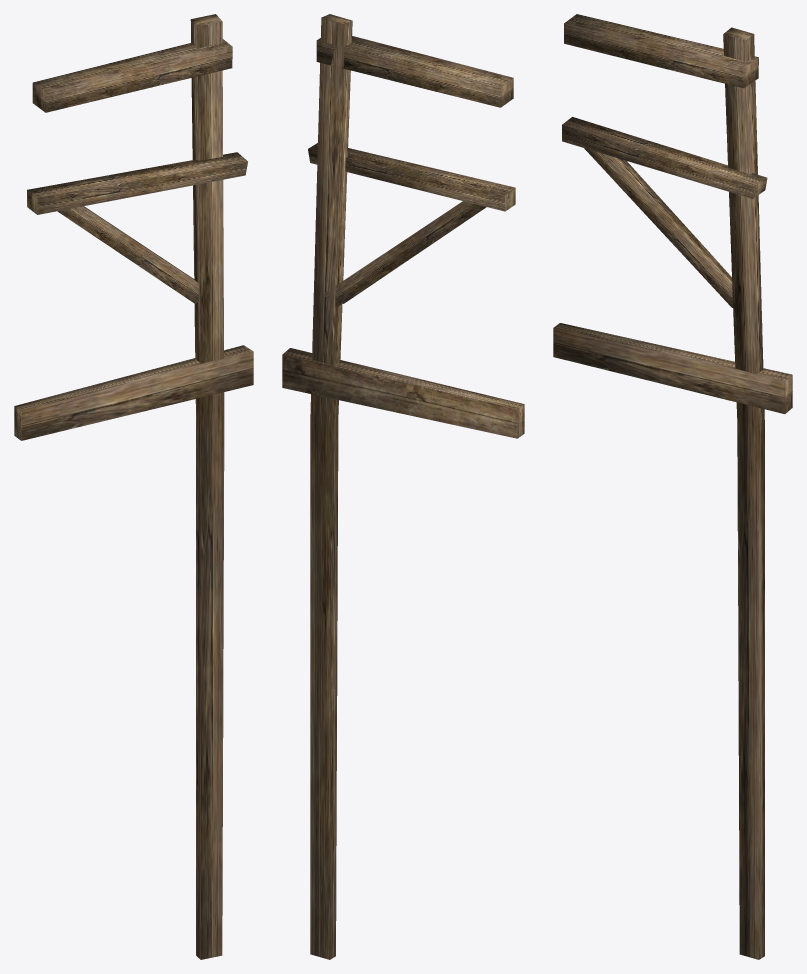
Rendered from S_Build_West076.FBX.
3 renders of one model, left to right at view 1: azimuth 30°, elevation 25°; view 2: azimuth 150°, elevation 25°; view 3: azimuth 330°, elevation 25°, orthographic.
Visible parts, largest first — view 1: S_Build_West076; view 2: S_Build_West076; view 3: S_Build_West076.
Part boxes in pixels (<box>): S_Build_West076: <box>14,14,253,959</box>; S_Build_West076: <box>282,14,524,959</box>; S_Build_West076: <box>553,14,792,959</box>.
Size of the model in its own units: 304 by 48.11 by 1169.
